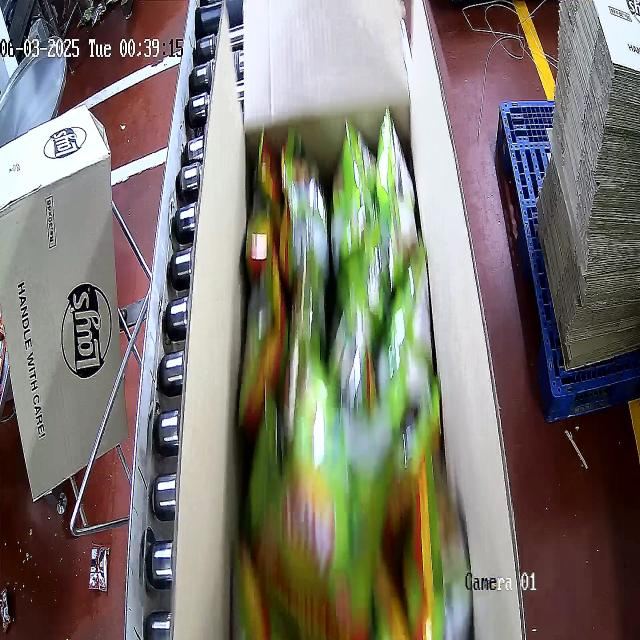YOGURT_HERB: (233, 102, 464, 637)
